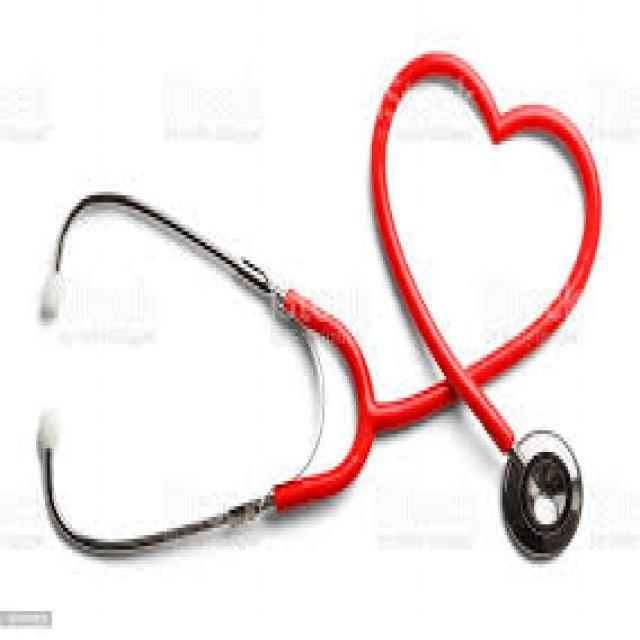stethoscope: (20, 40, 637, 602)
